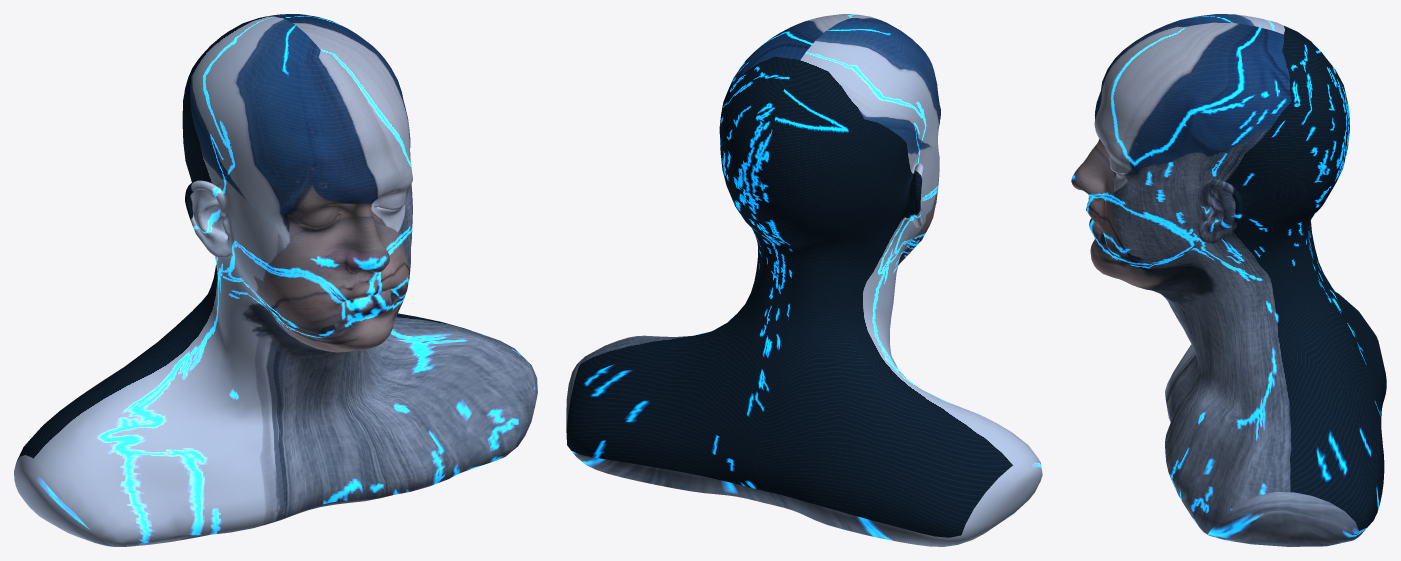
The model's file is holo_1768504984396.glb.
3 renders of one model, left to right at view 1: azimuth 30°, elevation 25°; view 2: azimuth 150°, elevation 25°; view 3: azimuth 270°, elevation 25°, orthographic. The views are drawn at different scales.
Visible parts, largest first — view 1: LeePerrySmith; view 2: LeePerrySmith; view 3: LeePerrySmith.
Part boxes in pixels (x1,y1,x2,y2): LeePerrySmith: (14, 14, 537, 546); LeePerrySmith: (566, 14, 1042, 546); LeePerrySmith: (1071, 14, 1386, 546).
Bounding box in the file's own units: 8.55 × 7.95 × 5.18.
1 material, 1 textured.
